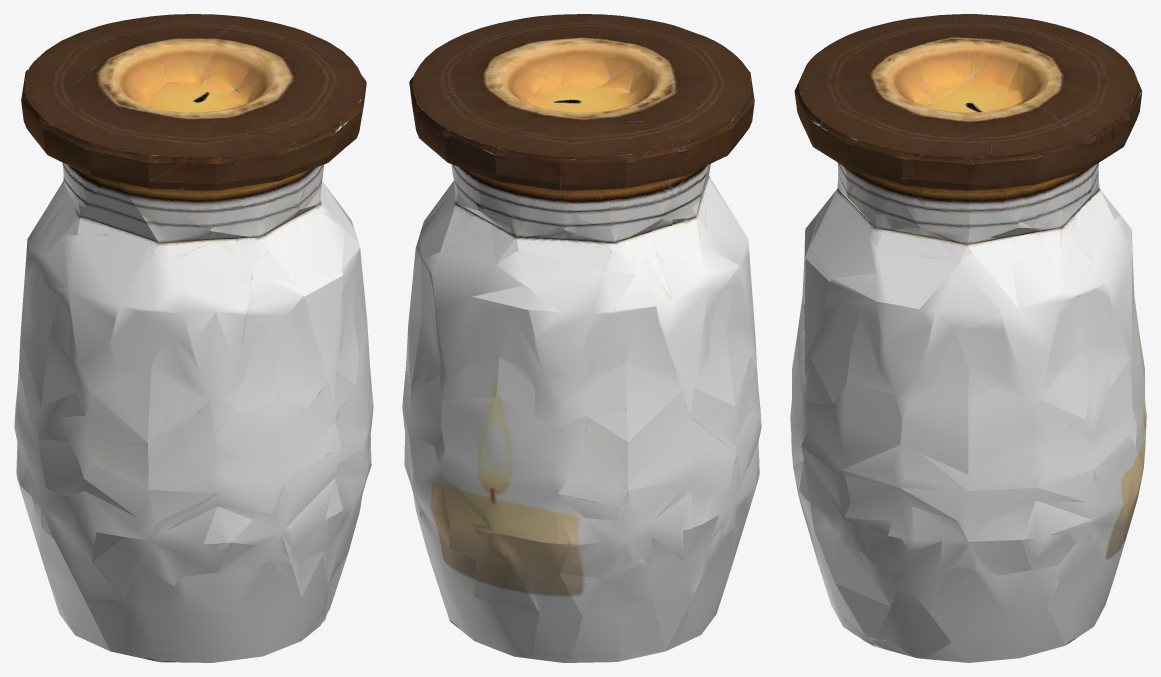
File: tealight_lantern.glb
3 views of the same model, side by side, from view 1: azimuth 30°, elevation 25°; view 2: azimuth 150°, elevation 25°; view 3: azimuth 270°, elevation 25° (orthographic).
Bounding box in the file's own units: 1.16 × 1.9 × 1.16.
Materials: 1 (1 with a texture image).
